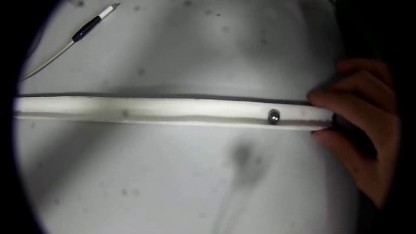gangzhu: (265, 108, 282, 124)
